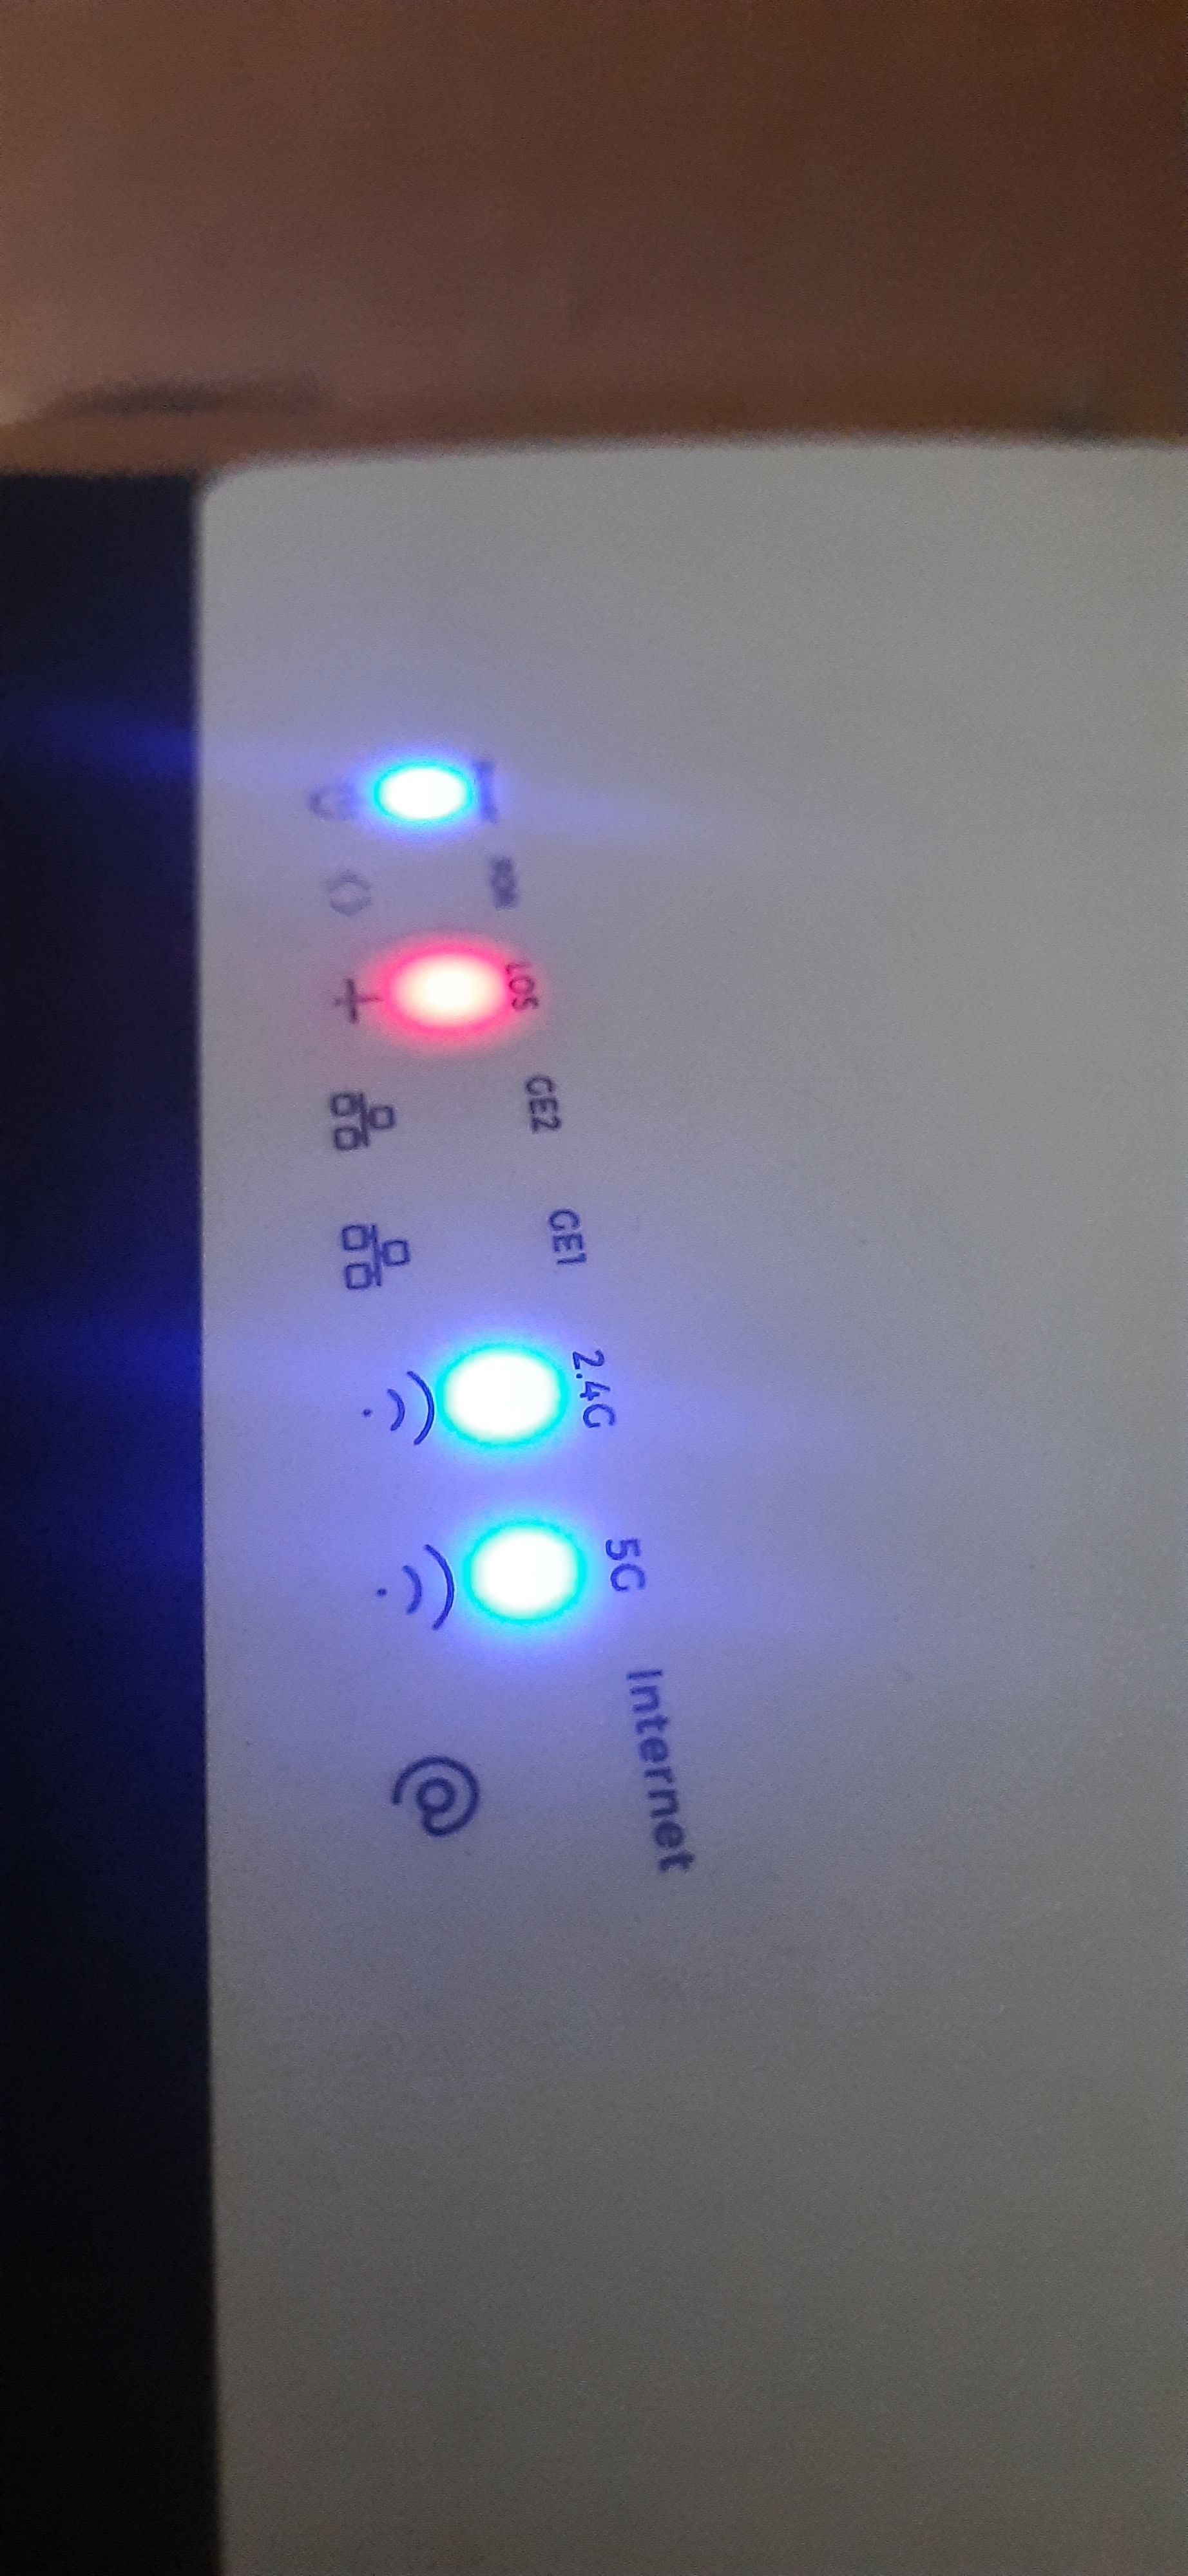LOSConnectionIssue: (289, 933, 596, 1069)
